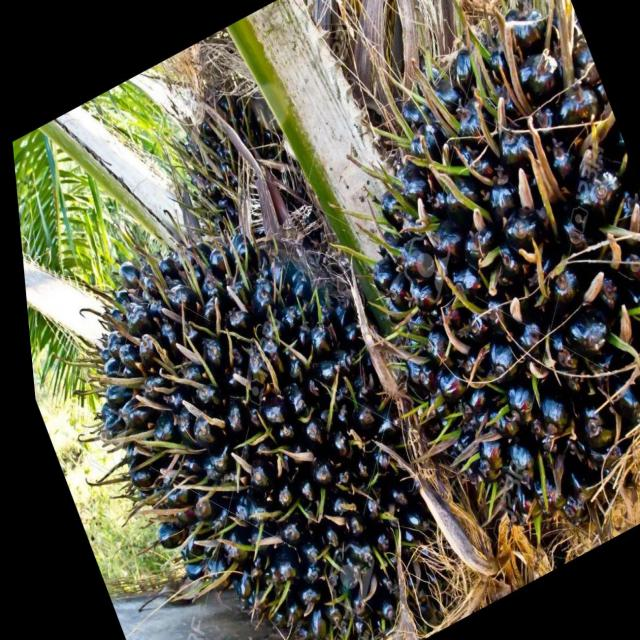Unripe: (283, 0, 640, 582), (32, 164, 464, 640)
